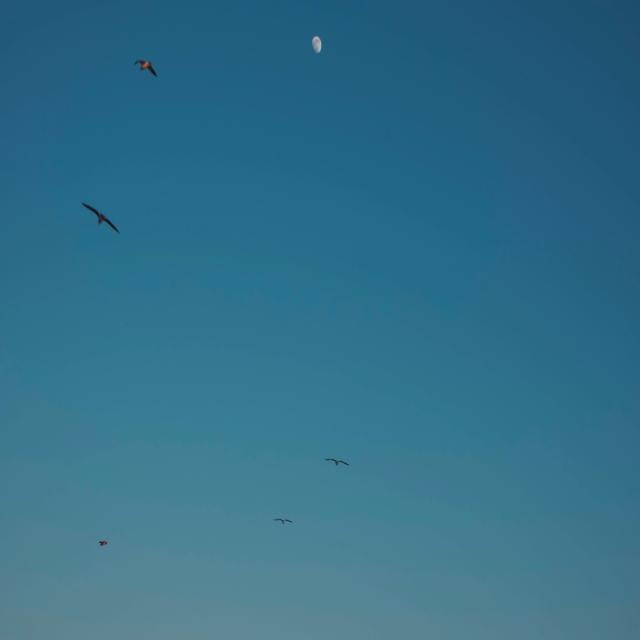bird: (75, 196, 121, 240), (318, 452, 352, 475), (130, 55, 160, 78), (269, 507, 295, 532), (94, 532, 112, 551)
